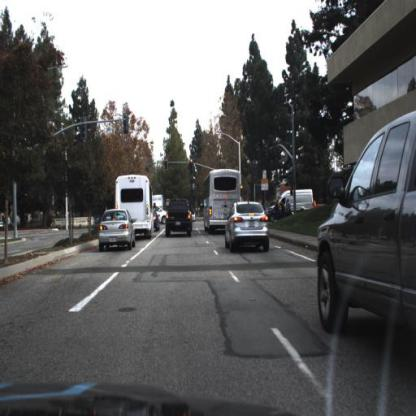car: (316, 112, 416, 338), (225, 203, 269, 252), (101, 211, 137, 249), (275, 189, 315, 221), (277, 182, 314, 216), (166, 198, 194, 236), (154, 204, 166, 225)
pedestrian: (280, 199, 287, 220), (276, 197, 281, 219), (286, 200, 291, 220)
trafficLight-Red: (190, 159, 194, 172)
truck: (203, 169, 244, 238), (115, 174, 152, 238)
